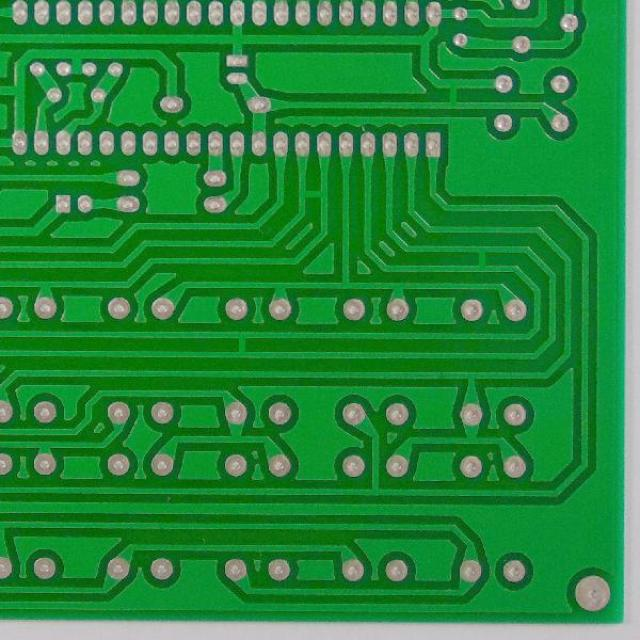Short_Circuit: (293, 180, 333, 206), (441, 74, 467, 114), (229, 326, 256, 364), (470, 241, 495, 276)
